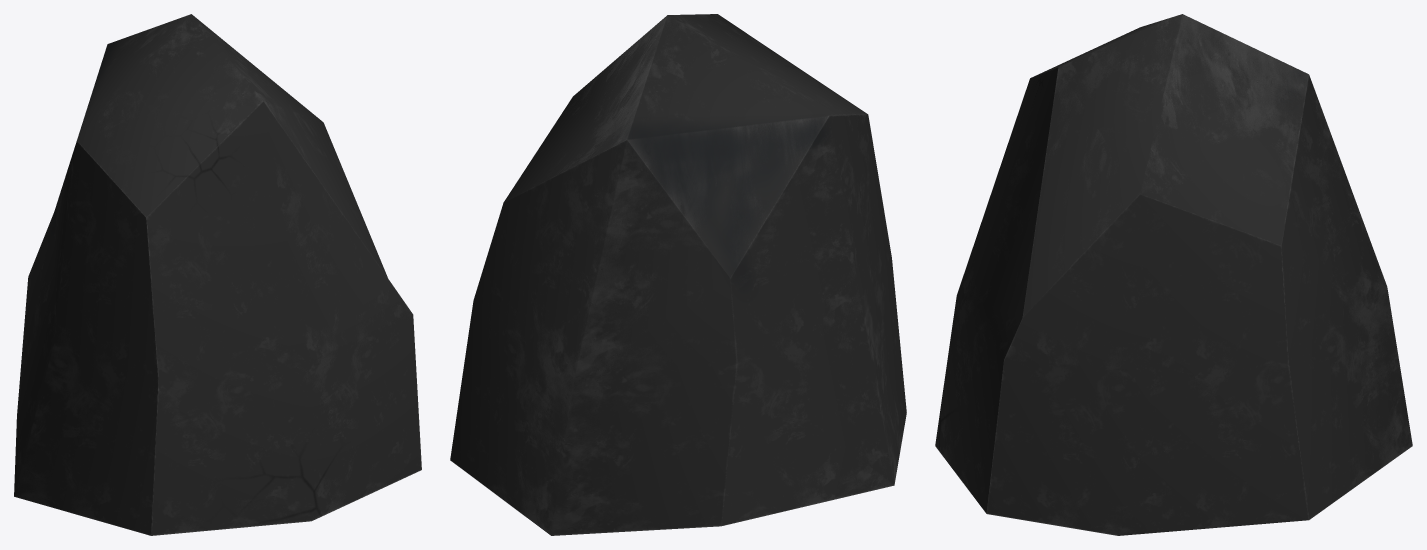
Rendered from Rock1.fbx.
The picture shows the model from 3 angles, left to right: view 1: azimuth 30°, elevation 25°; view 2: azimuth 150°, elevation 25°; view 3: azimuth 270°, elevation 25°; orthographic projection. The views are drawn at different scales.
Parts seen in each view (by area): view 1: Rock 1; view 2: Rock 1; view 3: Rock 1.
Part boxes in pixels (left/top/right/bottom): Rock 1: left=14, top=14, right=421, bottom=535; Rock 1: left=450, top=14, right=906, bottom=535; Rock 1: left=935, top=14, right=1412, bottom=535.
Bounding box in the file's own units: 52.07 × 55.48 × 55.36.
